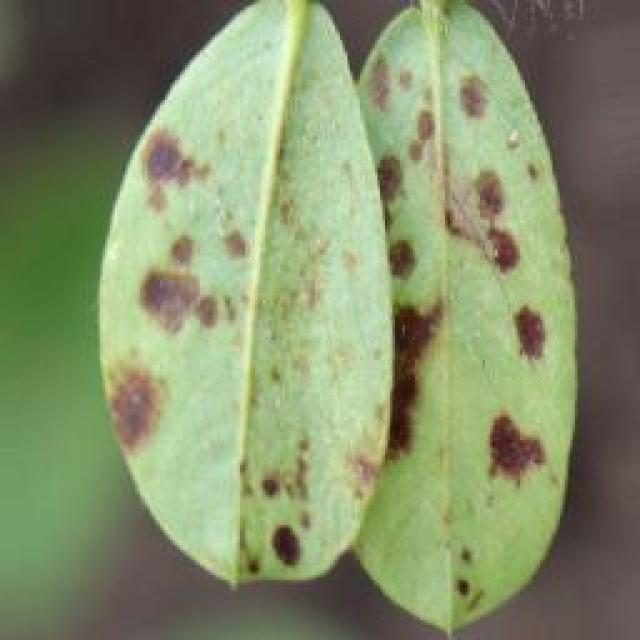Whitefly: (167, 5, 568, 608), (87, 18, 240, 440)
